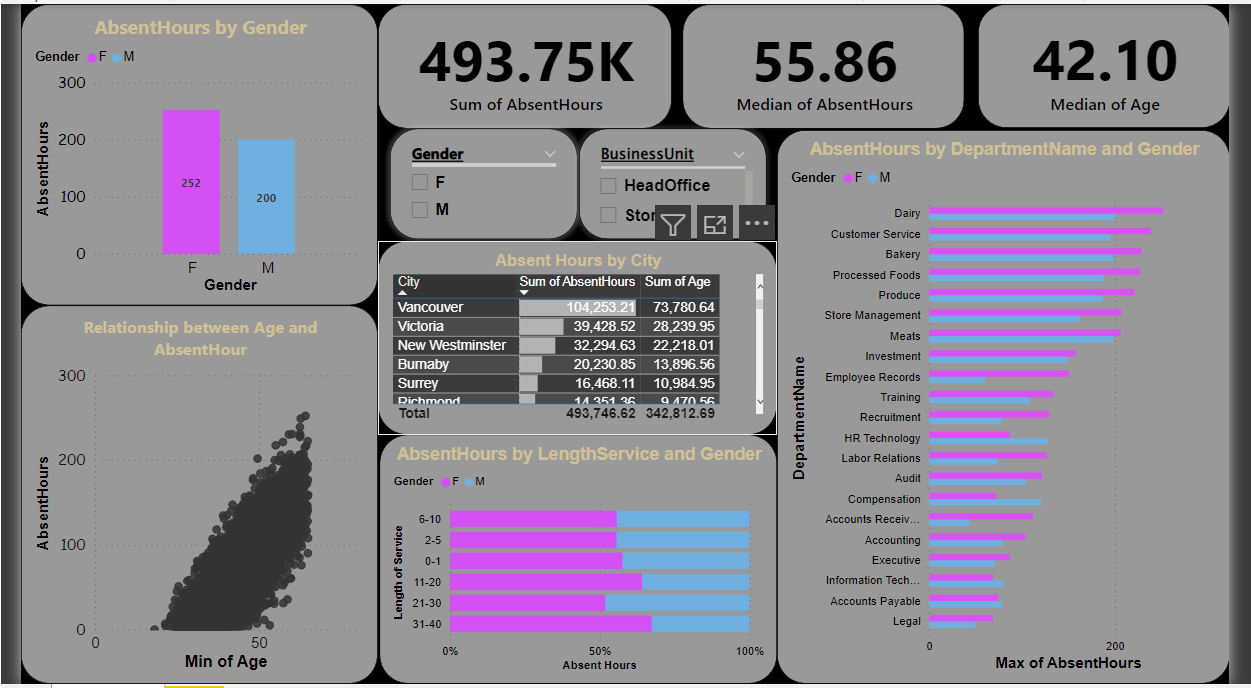

What the dashboard file says about the page in this screenshot:
{"tool":"powerbi","page":{"name":"Page 1","canvas":[1280,720],"ordinal":0},"visuals":[{"type":"columnChart","title":"AbsentHours by Gender","fields":{"Category":["Sheet1.Gender"],"Y":["Max(Sheet1.AbsentHours)"],"Series":["Sheet1.Gender"]},"box":[0,0,378.3,319.5],"z":0},{"type":"card","title":"bhbhbhuhuh","fields":{"Values":["Sum(Sheet1.AbsentHours)"]},"box":[378.3,0,311.5,131.9],"z":1000},{"type":"card","fields":{"Values":["Median(Sheet1.AbsentHours)"]},"box":[700.9,0,298.8,131.9],"z":2000},{"type":"clusteredBarChart","title":"AbsentHours by DepartmentName and Gender","fields":{"Category":["Sheet1.DepartmentName"],"Y":["Max(Sheet1.AbsentHours)"],"Series":["Sheet1.Gender"]},"box":[801.1,133.5,480,586.5],"z":3000},{"type":"card","fields":{"Values":["Median(Sheet1.Age)"]},"box":[1013.6,0,267.1,131.2],"z":4000},{"type":"hundredPercentStackedBarChart","title":"AbsentHours by LengthService and Gender","fields":{"Category":["Sheet1.LengthService"],"Y":["Max(Sheet1.AbsentHours)"],"Series":["Sheet1.Gender"]},"box":[379.9,456.2,421.2,263.8],"z":5000},{"type":"slicer","fields":{"Values":["Sheet1.Gender"]},"box":[391,131.9,198.7,117.6],"z":6000},{"type":"scatterChart","title":"Relationship between Age and AbsentHour","fields":{"X":["Min(Sheet1.Age)"],"Y":["Sheet1.AbsentHours"]},"box":[0,319.5,378.3,400.5],"z":7000},{"type":"slicer","fields":{"Values":["Sheet1.BusinessUnit"]},"box":[591.3,131.9,198.7,117.6],"z":8000},{"type":"tableEx","title":"Absent Hours by City","fields":{"Values":["Sheet1.City","Sum(Sheet1.AbsentHours)","Sum(Sheet1.Age)"]},"box":[378.3,251.1,422.8,205],"z":9000}]}

Visuals, with their boxes in screenshot pixels (x1, y1, x2, y2), scaled from the page's 1280x720 canvas onto the 1251x688 screenshot:
"AbsentHours by Gender" columnChart: select_region(0, 0, 370, 305)
"bhbhbhuhuh" card: select_region(370, 0, 674, 126)
card - Median(Sheet1.AbsentHours): select_region(685, 0, 977, 126)
"AbsentHours by DepartmentName and Gender" clusteredBarChart: select_region(783, 128, 1250, 687)
card - Median(Sheet1.Age): select_region(991, 0, 1250, 125)
"AbsentHours by LengthService and Gender" hundredPercentStackedBarChart: select_region(371, 436, 783, 687)
slicer - Sheet1.Gender: select_region(382, 126, 576, 238)
"Relationship between Age and AbsentHour" scatterChart: select_region(0, 305, 370, 687)
slicer - Sheet1.BusinessUnit: select_region(578, 126, 772, 238)
"Absent Hours by City" tableEx: select_region(370, 240, 783, 436)
